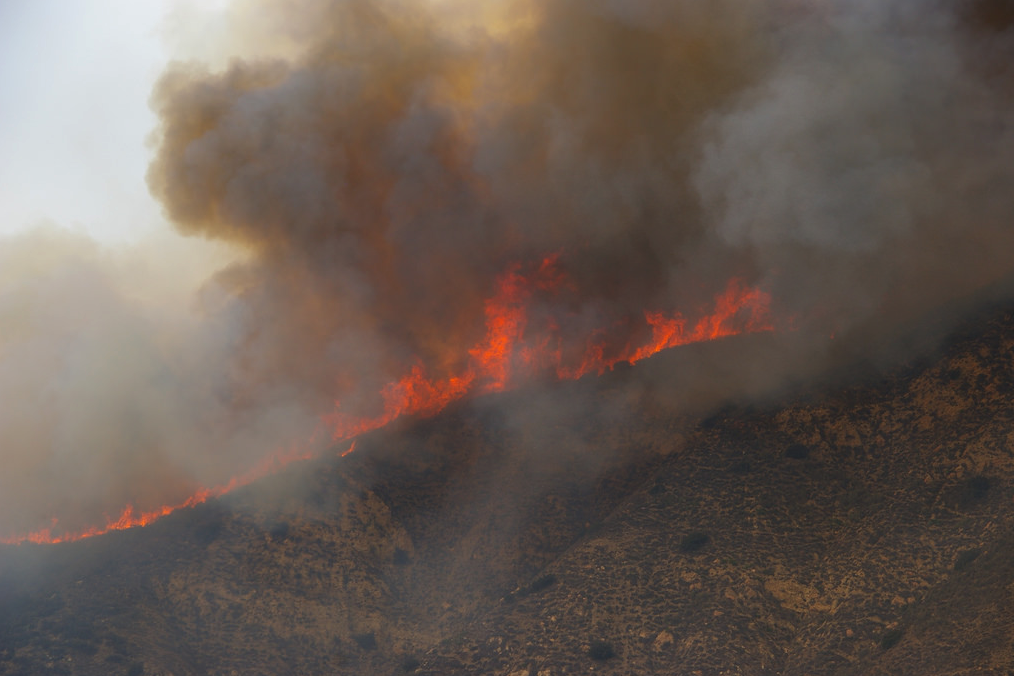fire: (359, 277, 794, 390)
